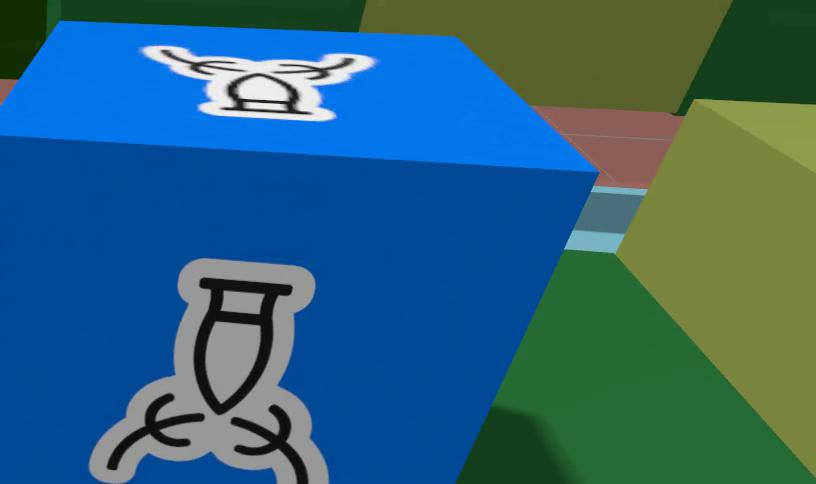KFS_REAL: (0, 21, 595, 484), (89, 258, 328, 484), (142, 45, 376, 121)
